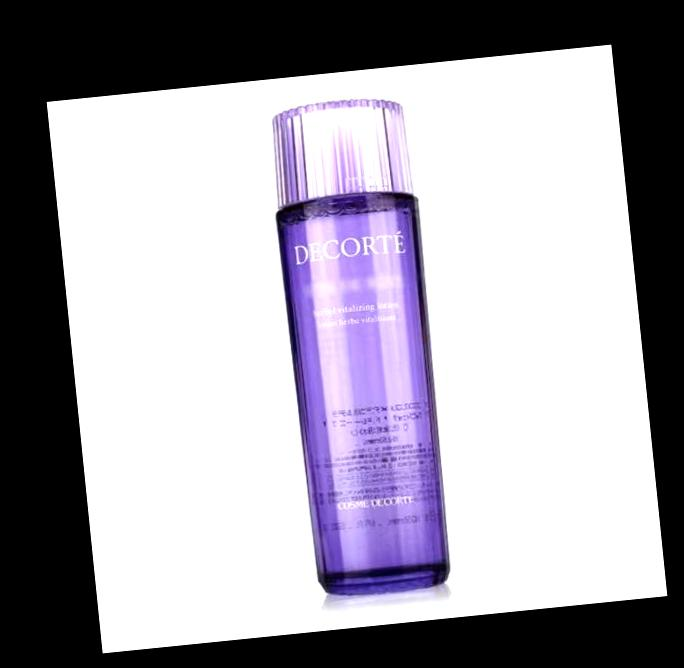cosmetic: (257, 98, 461, 601)
